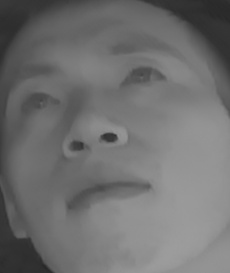eye: (13, 87, 65, 120), (117, 62, 167, 93)
mouth: (61, 163, 152, 218)
